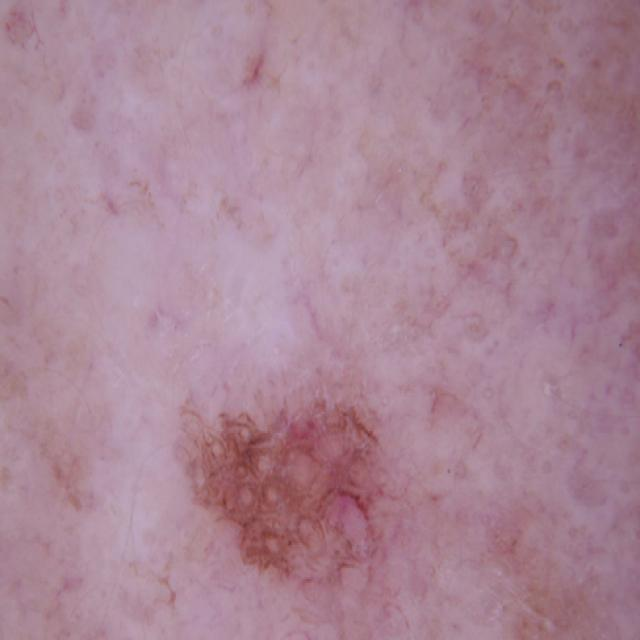Melanoma: (125, 288, 498, 640)
